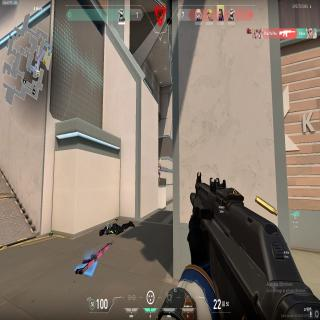ENEMY-HEAD: (158, 162, 160, 166)
